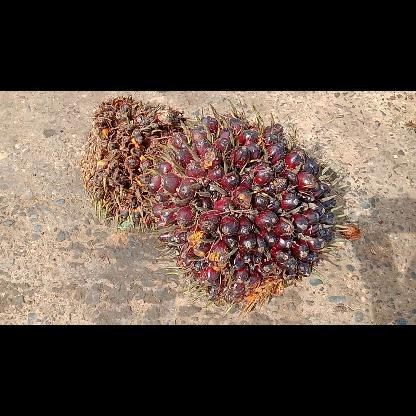Kurang masak: (143, 100, 349, 316)
TBS abnormal: (78, 96, 194, 232)
